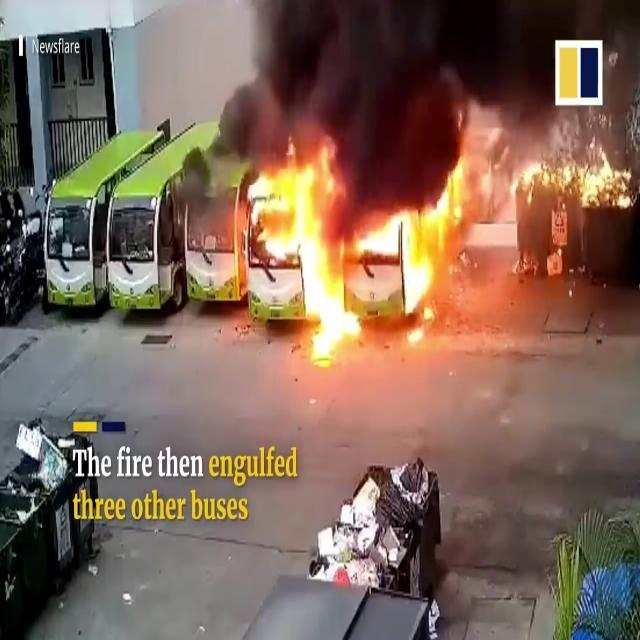Fire: (246, 130, 457, 340), (526, 132, 637, 212)
Smoke: (218, 1, 544, 180)
